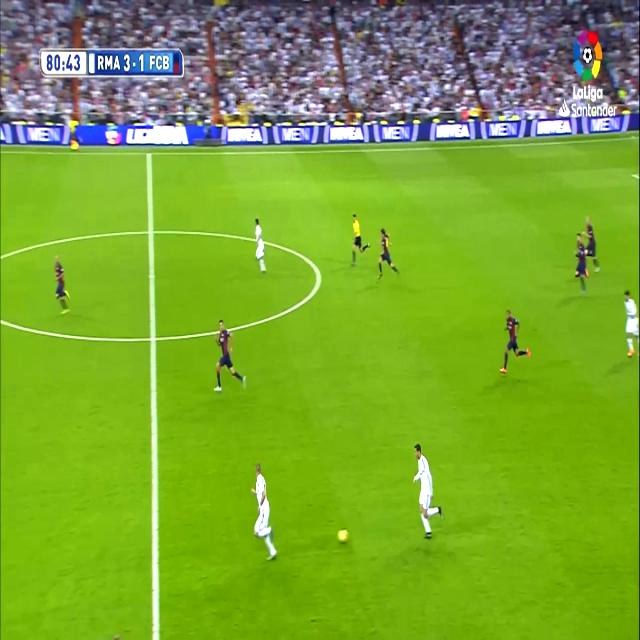bigarea_top_inner: (629, 165, 639, 183)
halfcircle_bottom: (144, 316, 162, 358)
halfcircle_top: (143, 212, 159, 252)
midline_top_intersection: (143, 145, 155, 165)
